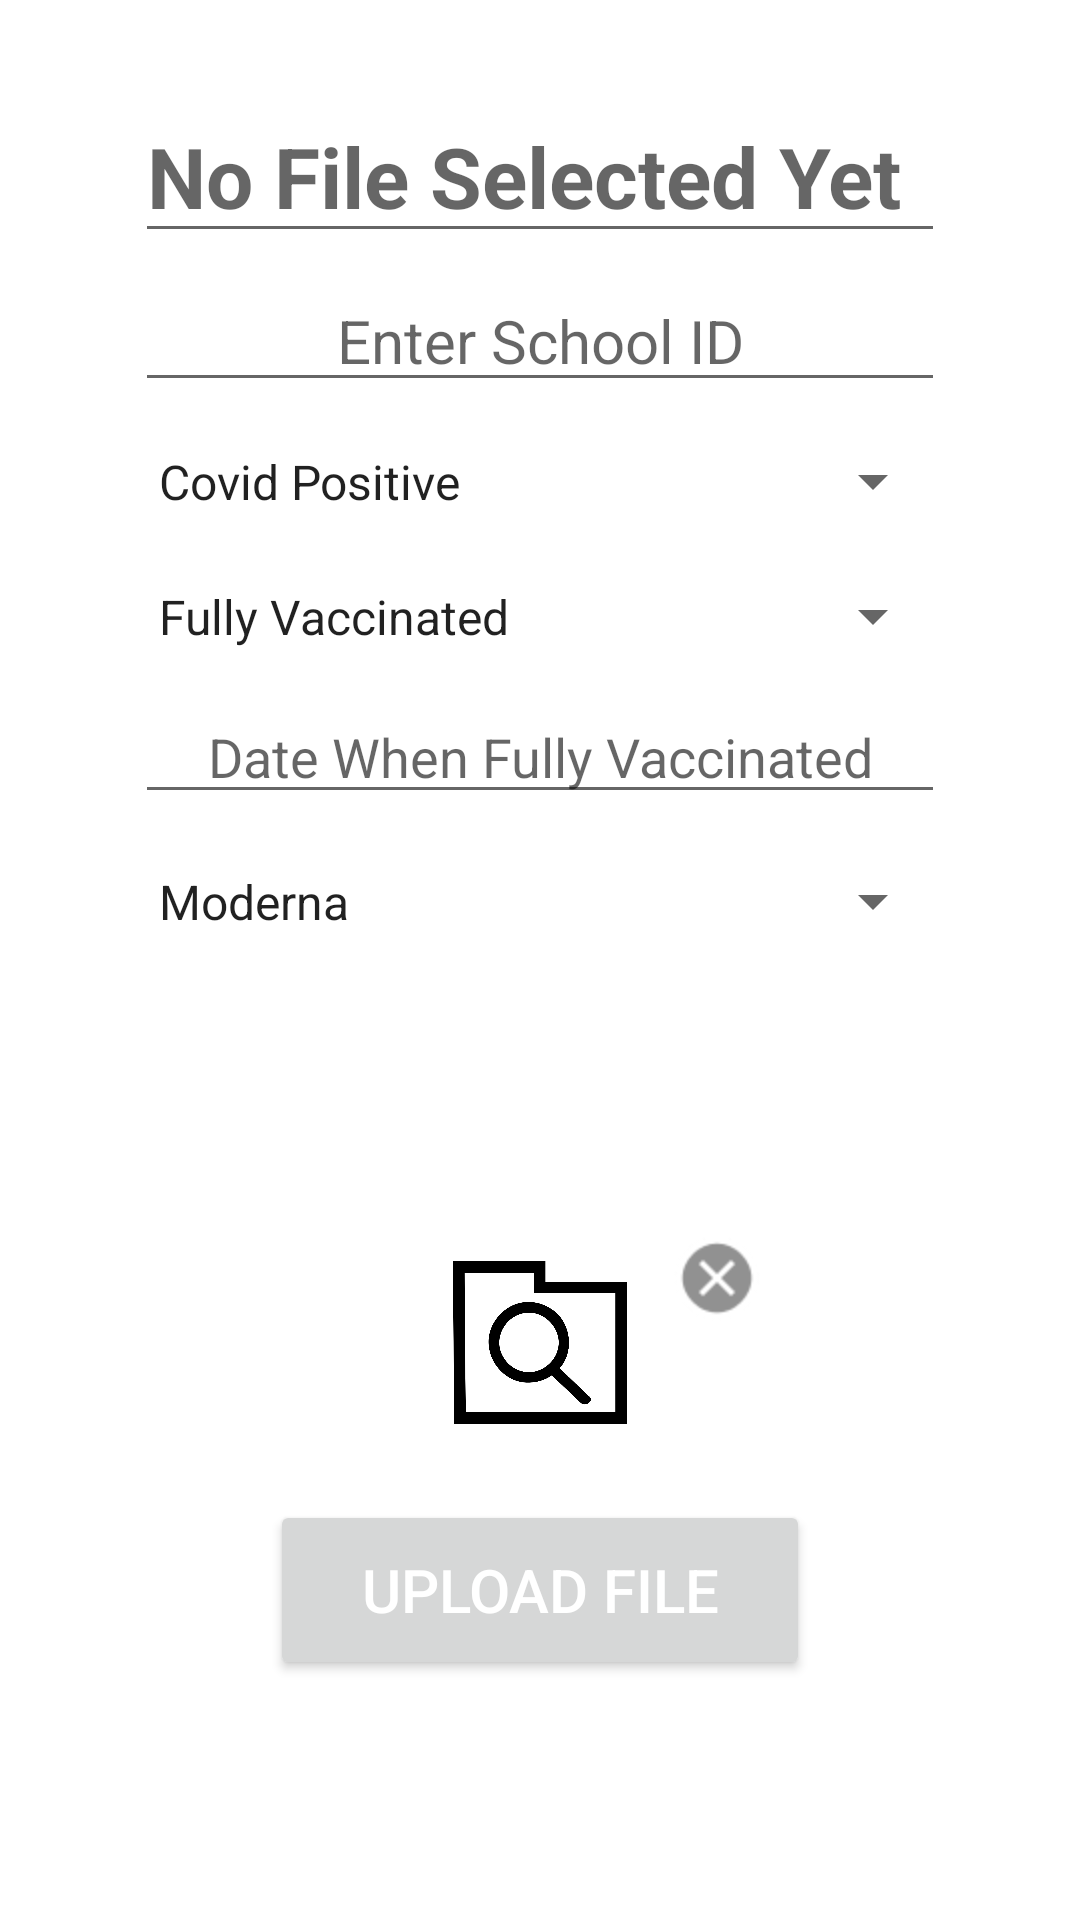

Point at icon controls on the screen. Image size 1080 x 1920, points as point (x, y).
presence offline: point (717, 1278)
